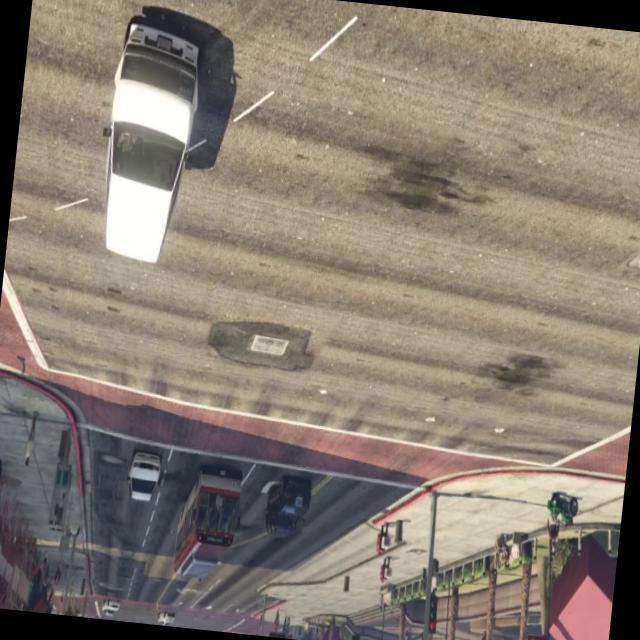Red-Signal: (424, 588, 443, 638), (266, 619, 290, 638), (348, 626, 364, 640)
